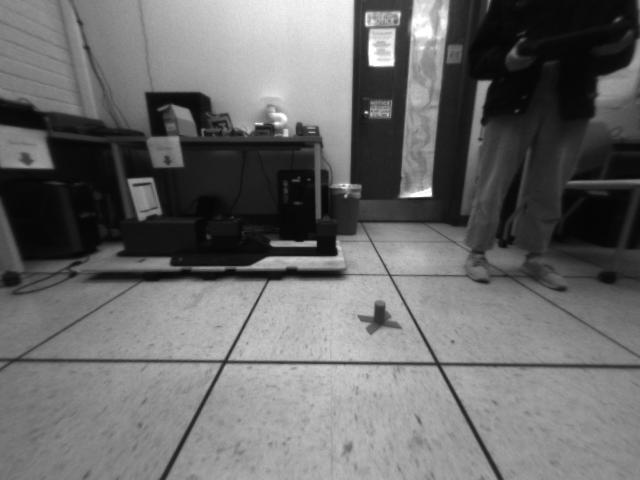x: (358, 299, 402, 336)
